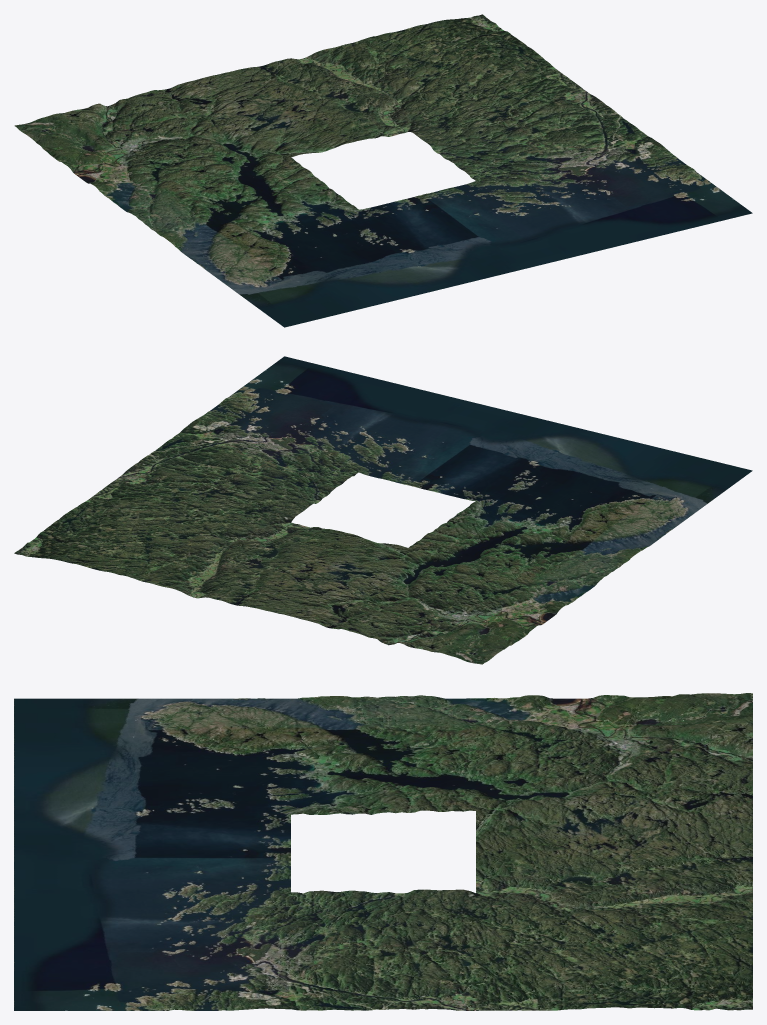
Rendered from horizon_terrain.glb.
The picture shows the model from 3 angles, top to bottom: view 1: azimuth 30°, elevation 25°; view 2: azimuth 150°, elevation 25°; view 3: azimuth 270°, elevation 25°; orthographic projection. The views are drawn at different scales.
Visible parts, largest first — view 1: web_horizon_terrain; view 2: web_horizon_terrain; view 3: web_horizon_terrain.
Boxes of the visible parts, left/top/right/bottom form: web_horizon_terrain: left=14, top=14, right=752, bottom=327; web_horizon_terrain: left=14, top=356, right=752, bottom=664; web_horizon_terrain: left=14, top=693, right=752, bottom=1010.
Size of the model in its own units: 30000 by 355 by 30000.
Materials: 1 (1 with a texture image).
